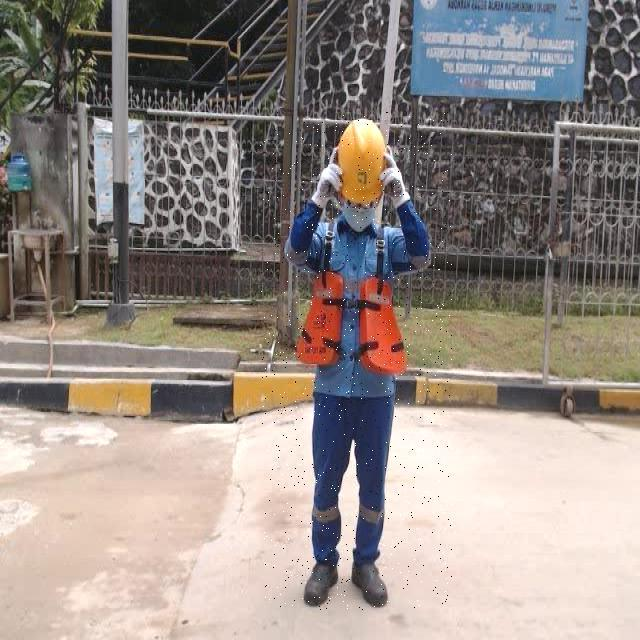boots: (349, 556, 388, 608), (301, 558, 340, 610)
gloves: (377, 142, 422, 212), (306, 152, 344, 218)
helmet: (338, 120, 384, 201)
vest: (295, 272, 408, 377)
